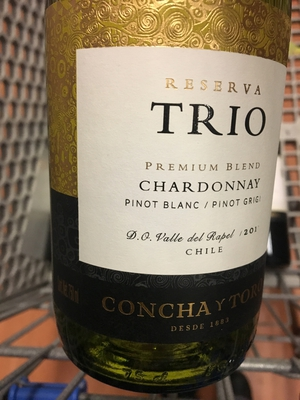trio chardonnay: (42, 4, 291, 398)
